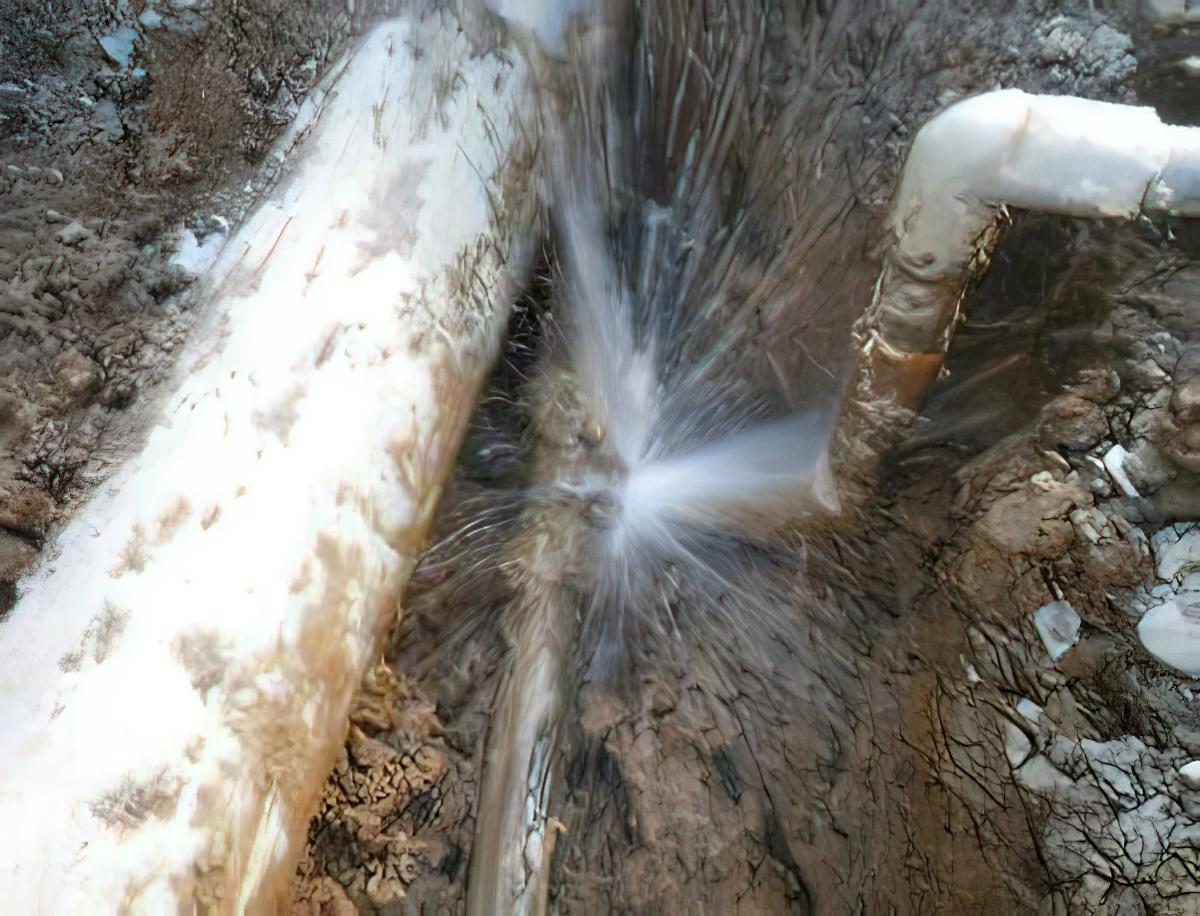pipe burst: (542, 22, 875, 659)
